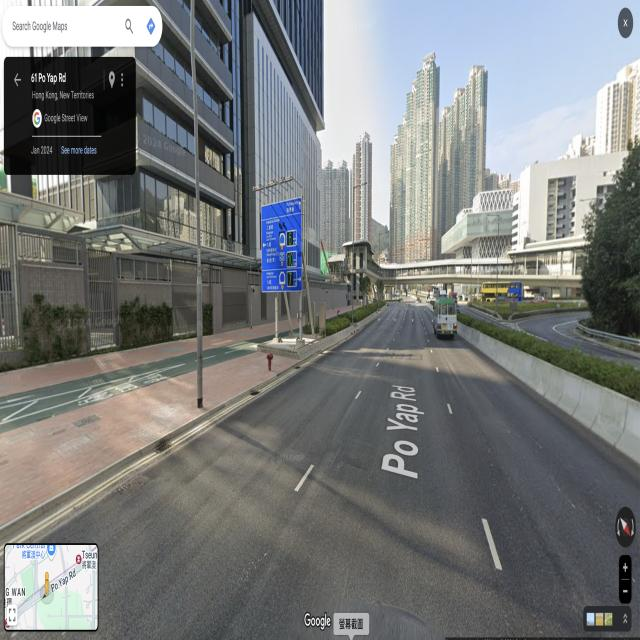Direction-Sign: (262, 202, 301, 290)
